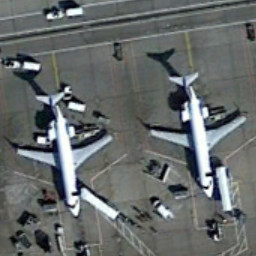Airplane: (8, 88, 119, 221), (146, 66, 250, 199)
